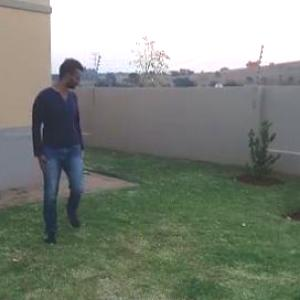follow: (26, 54, 91, 245)
